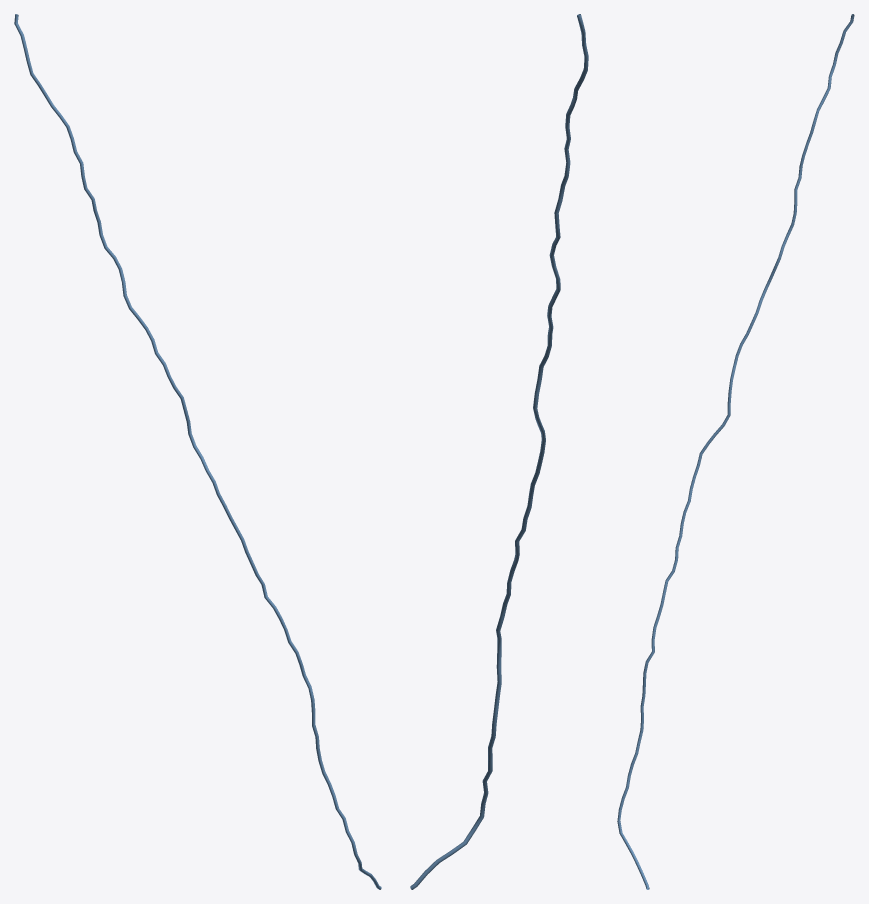
File: sweep273.fbx
The picture shows the model from 3 angles, left to right: view 1: azimuth 30°, elevation 25°; view 2: azimuth 150°, elevation 25°; view 3: azimuth 270°, elevation 25°; orthographic projection. The views are drawn at different scales.
Visible parts, largest first — view 1: sweep273; view 2: sweep273; view 3: sweep273.
Part boxes in pixels (<box>): sweep273: <box>14,14,381,889</box>; sweep273: <box>410,14,588,889</box>; sweep273: <box>617,14,854,889</box>.
Bounding box in the file's own units: 1.6 × 5.17 × 1.45.
